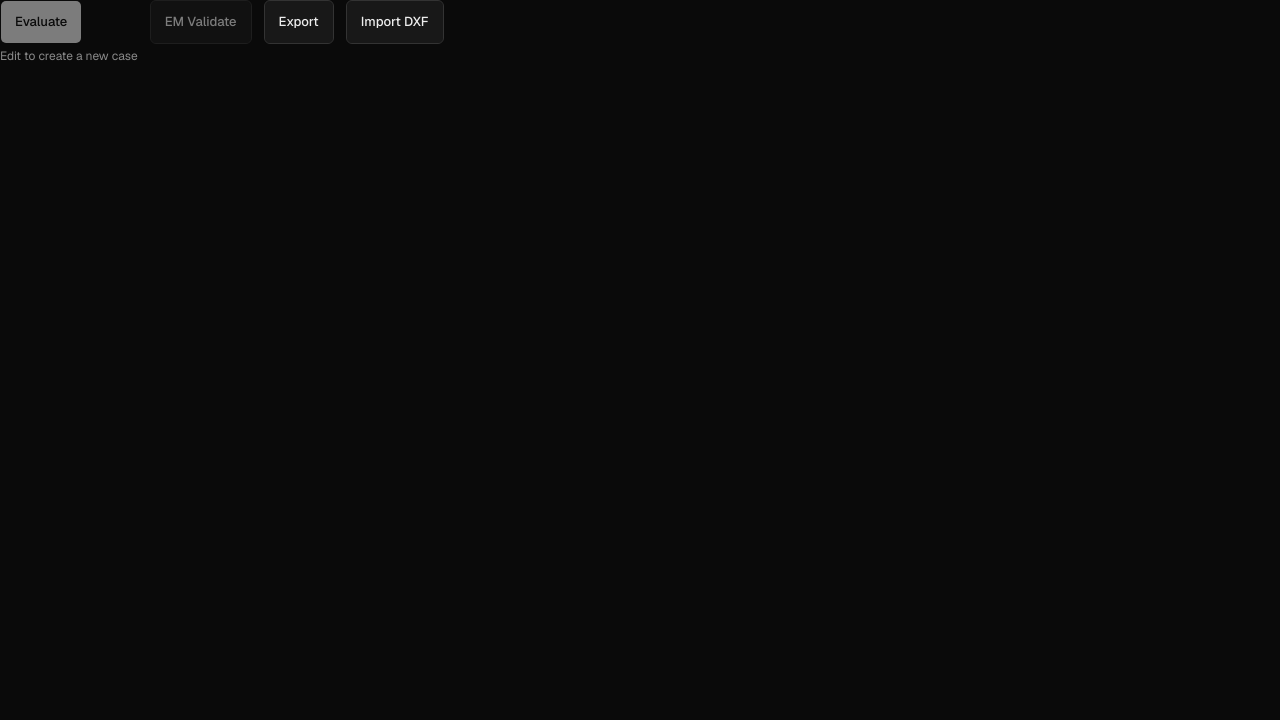
Test: CaseActions run report › enabled with evaluation
Click the button "Export" at (299, 22), box [264,0,334,44]
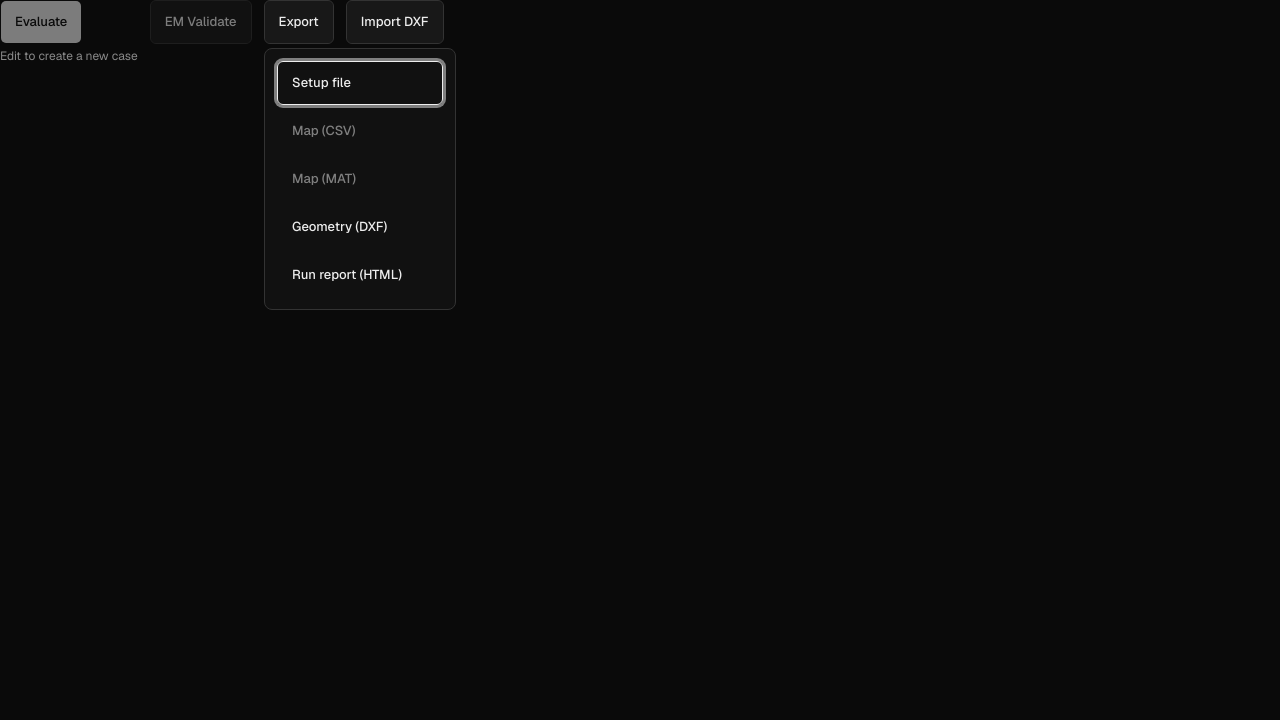
Check: the button "Run report (HTML)" is enabled, box [277,253,443,297]
